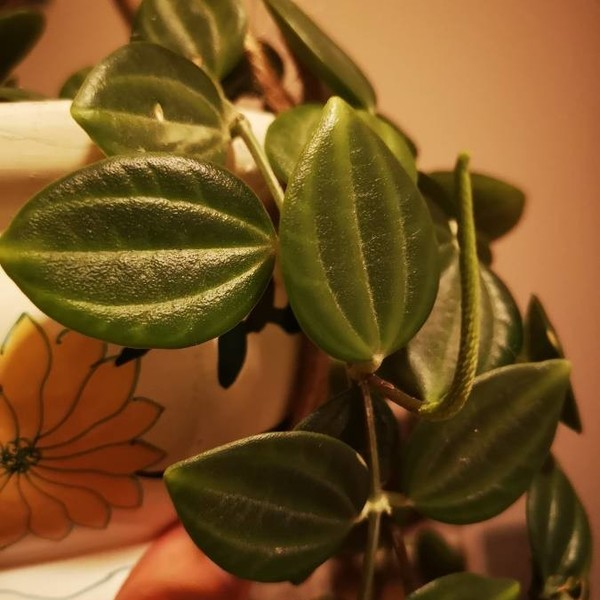obstacle: (63, 1, 578, 587)
